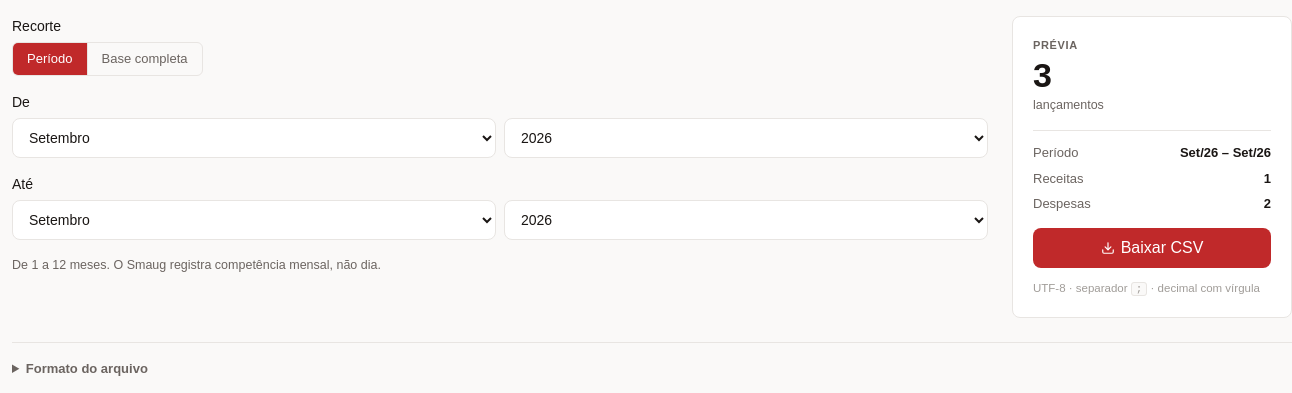
Test: ExportPanel › acusa período maior que doze meses
This screenshot has width=1292, height=393.
Select "Janeiro" in the dropdown named "De — mês" at point(254, 138), box [12, 118, 496, 158]
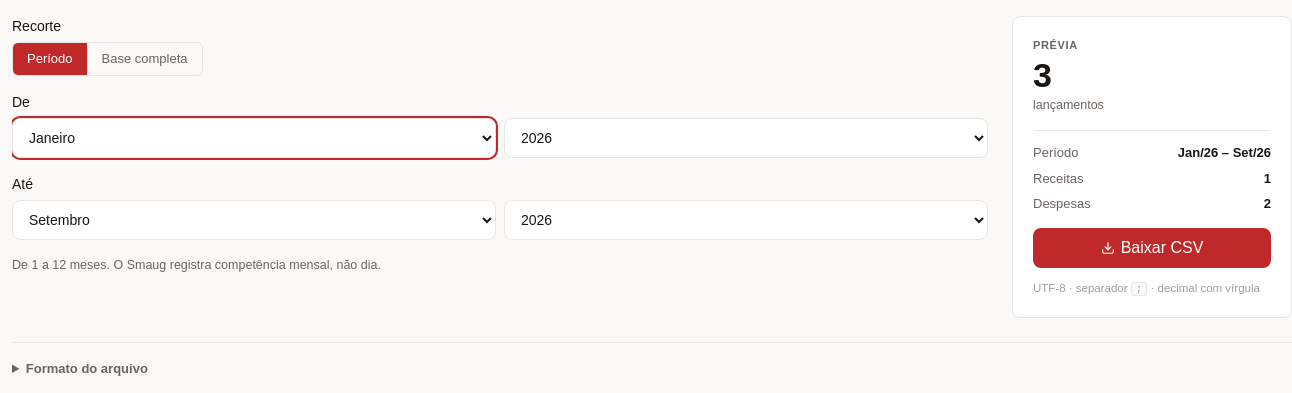
Select "Dezembro" in the dropdown named "Até — mês" at point(254, 220), box [12, 200, 496, 240]
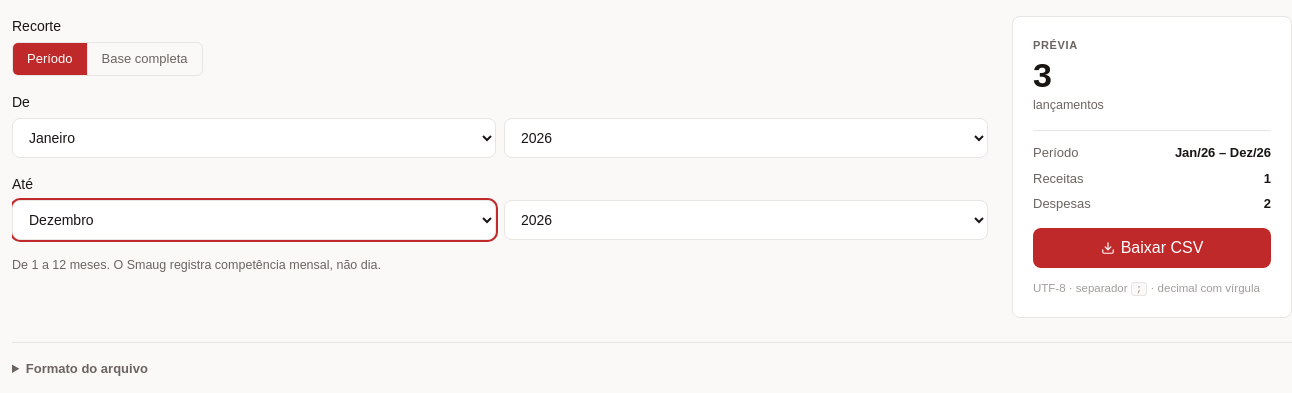
Select "2027" in the dropdown named "Até — ano" at point(746, 220), box [504, 200, 988, 240]
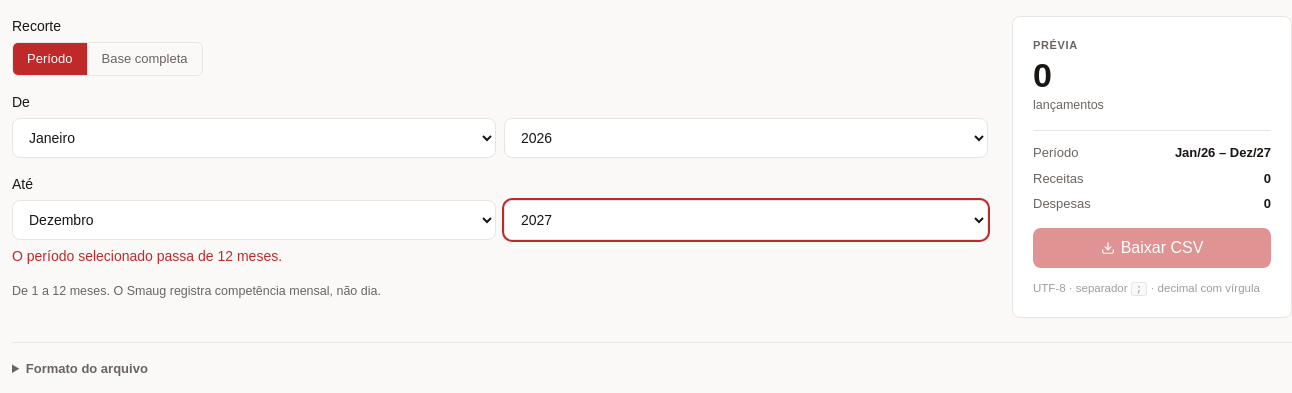
Check: the text "O período selecionado passa de 12 meses." is shown, box [12, 248, 282, 264]
